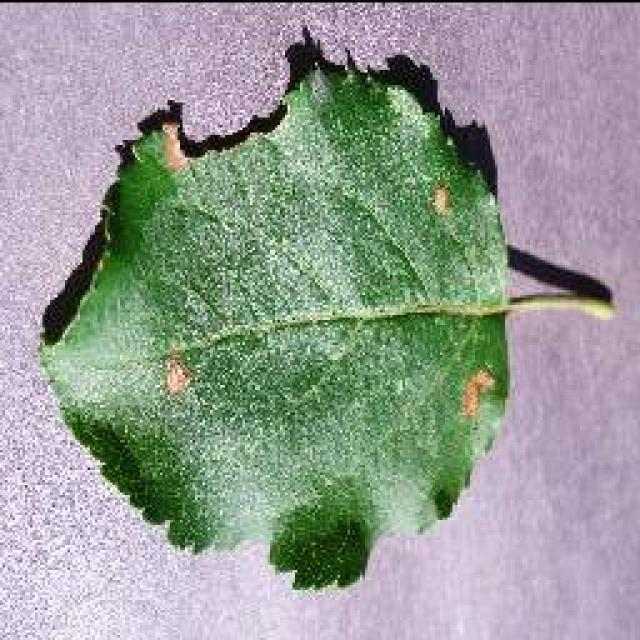apple healthy: (33, 25, 615, 593)
